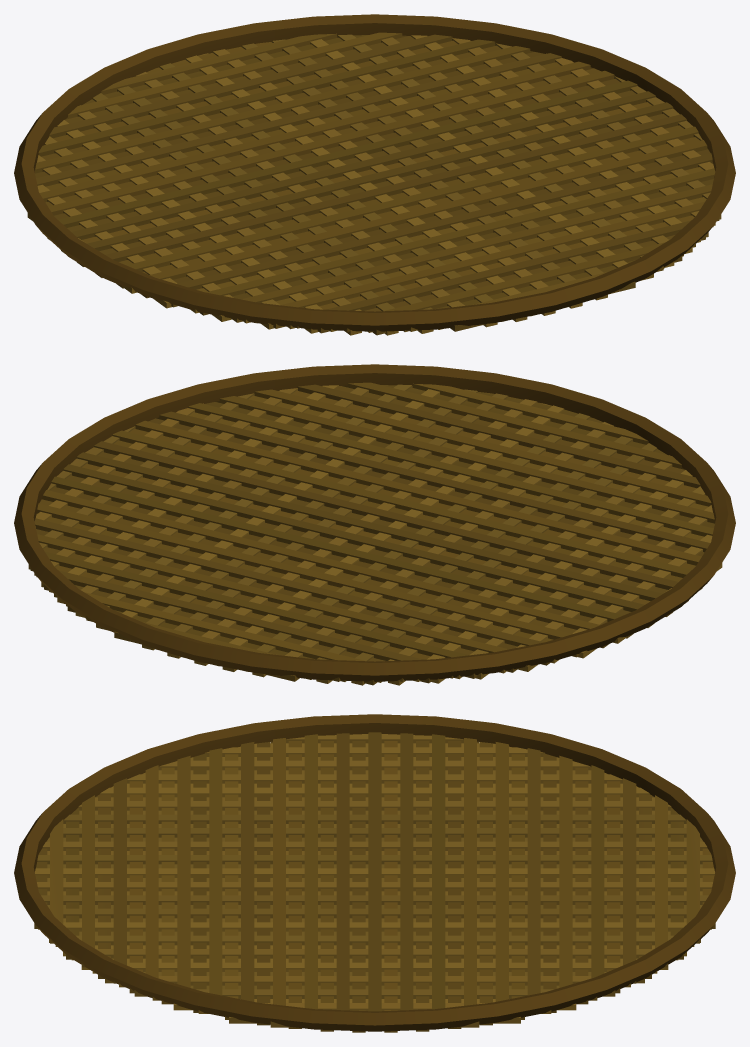
Rendered from hz-bamboo-tray.glb.
3 renders of one model, top to bottom at view 1: azimuth 30°, elevation 25°; view 2: azimuth 150°, elevation 25°; view 3: azimuth 270°, elevation 25°, orthographic.
Parts seen in each view (by area): view 1: weave__bamboo, rim__bamboo; view 2: weave__bamboo, rim__bamboo; view 3: weave__bamboo, rim__bamboo.
Boxes of the visible parts, x1,y1,x2,y2 form: weave__bamboo: (27, 32, 721, 335); rim__bamboo: (14, 14, 735, 331); weave__bamboo: (28, 382, 722, 685); rim__bamboo: (14, 364, 735, 681); weave__bamboo: (34, 732, 715, 1032); rim__bamboo: (14, 714, 735, 1031).
Size of the model in its own units: 0.928 by 0.0323 by 0.928.
